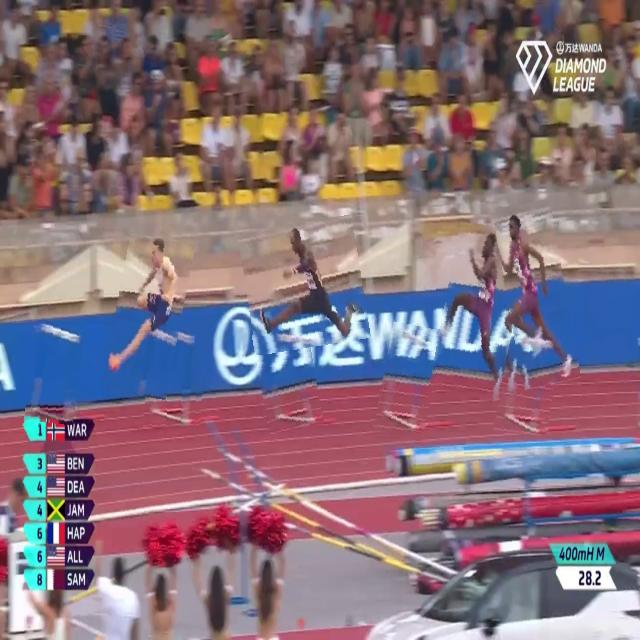athlete: (241, 218, 367, 351), (436, 223, 523, 400), (499, 201, 574, 389), (108, 236, 188, 398)
hurdle: (377, 323, 438, 440), (498, 326, 559, 438), (256, 327, 320, 432), (144, 329, 204, 430), (27, 321, 82, 424)
